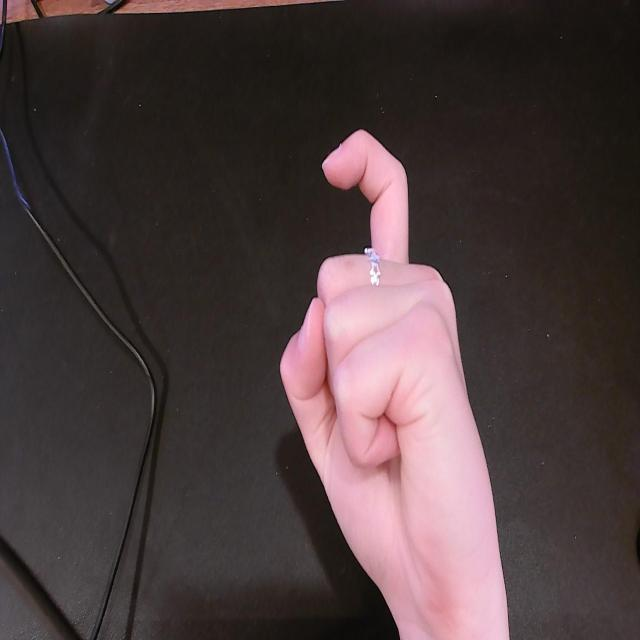X: (277, 122, 481, 570)
